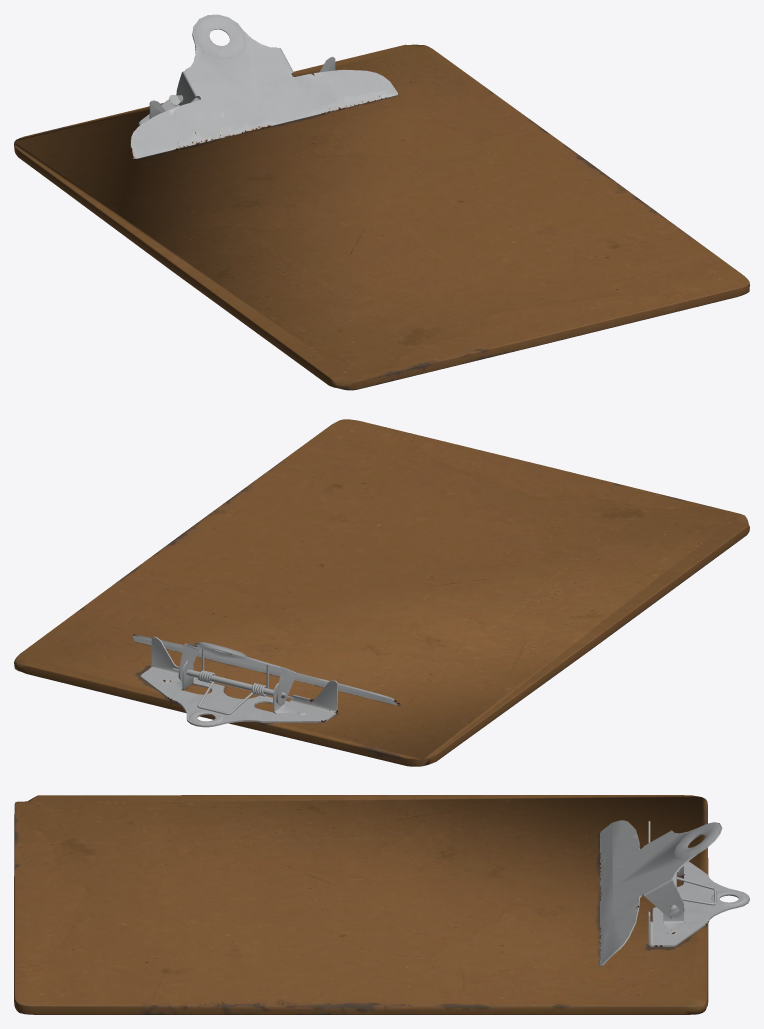
Rendered from clipboard.glb.
3 renders of one model, top to bottom at view 1: azimuth 30°, elevation 25°; view 2: azimuth 150°, elevation 25°; view 3: azimuth 270°, elevation 25°, orthographic. The views are drawn at different scales.
Parts seen in each view (by area): view 1: clipboard; view 2: clipboard; view 3: clipboard.
Boxes of the visible parts, x1=… form: clipboard: x1=14, y1=14, x2=749, y2=390; clipboard: x1=14, y1=419, x2=749, y2=766; clipboard: x1=14, y1=795, x2=749, y2=1014.
Bounding box in the file's own units: 0.2286 × 0.042 × 0.3366.
Materials: 1 (1 with a texture image).
